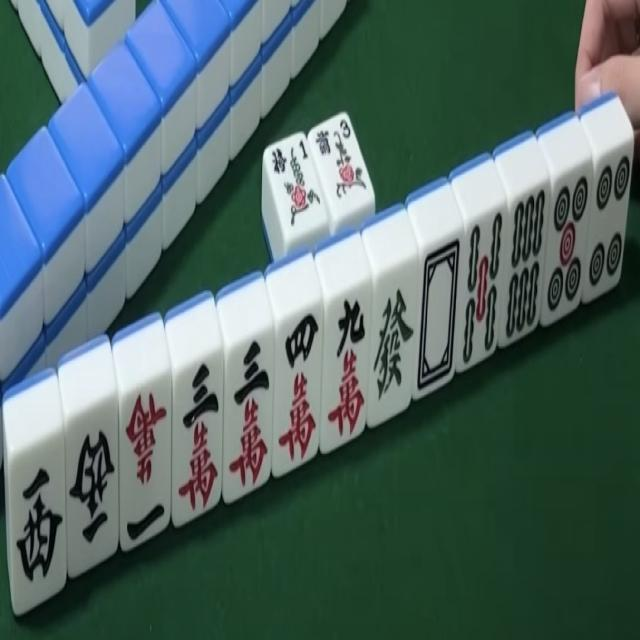bai: (416, 231, 462, 402)
f1: (264, 133, 325, 237)
f3: (317, 106, 368, 210)
fa: (374, 255, 414, 420)
m1: (121, 356, 171, 546)
m3: (176, 346, 222, 530), (225, 326, 272, 502)
m4: (275, 296, 320, 474)
m9: (325, 284, 373, 450)
s5: (461, 208, 503, 367)
s6: (502, 170, 547, 347)
t4: (586, 151, 631, 297)
t5: (544, 158, 588, 322)
west: (2, 440, 63, 632), (67, 412, 118, 564)
